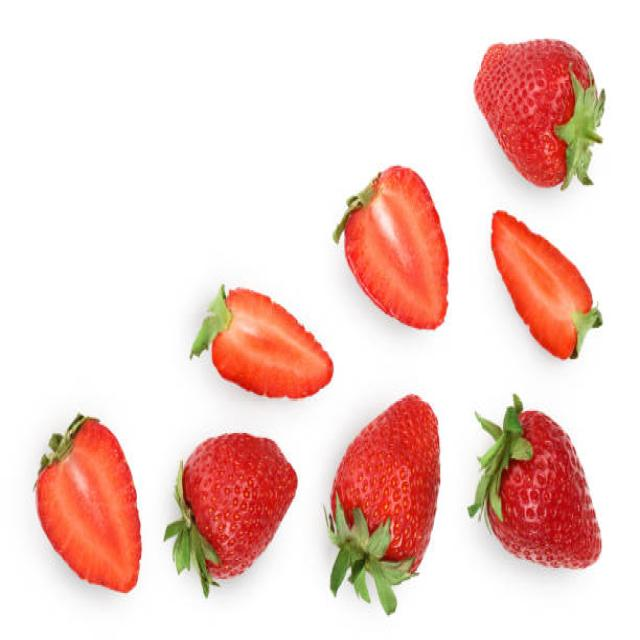Healthy Fruit: (331, 391, 441, 576), (485, 410, 603, 571), (35, 417, 142, 593), (474, 38, 594, 186), (345, 167, 450, 330), (183, 432, 299, 579)
